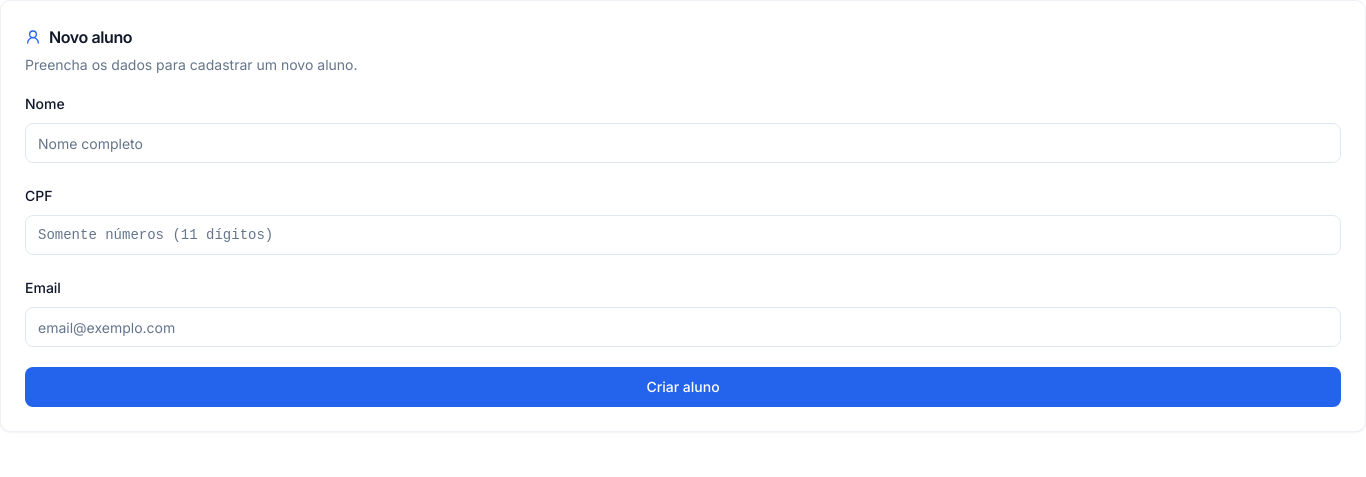
Test: AlunoForm › shows validation error when CPF has fewer than 11 digits
Type "João" into the field labelled "Nome" at (683, 143), box [25, 123, 1341, 163]
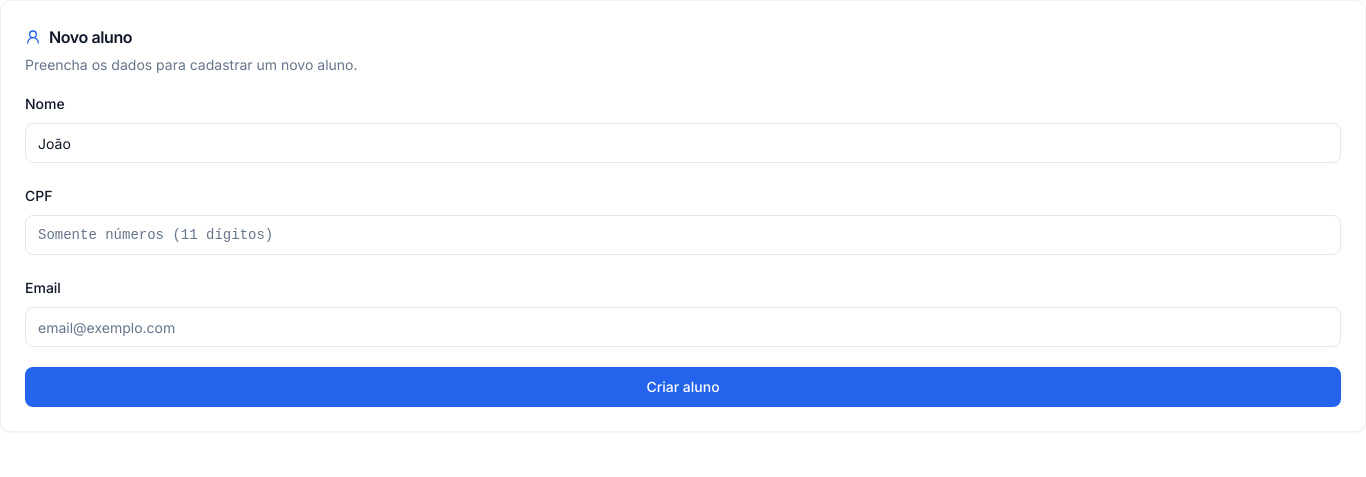
Type "1234" into the field labelled "CPF" at (683, 235), box [25, 215, 1341, 255]
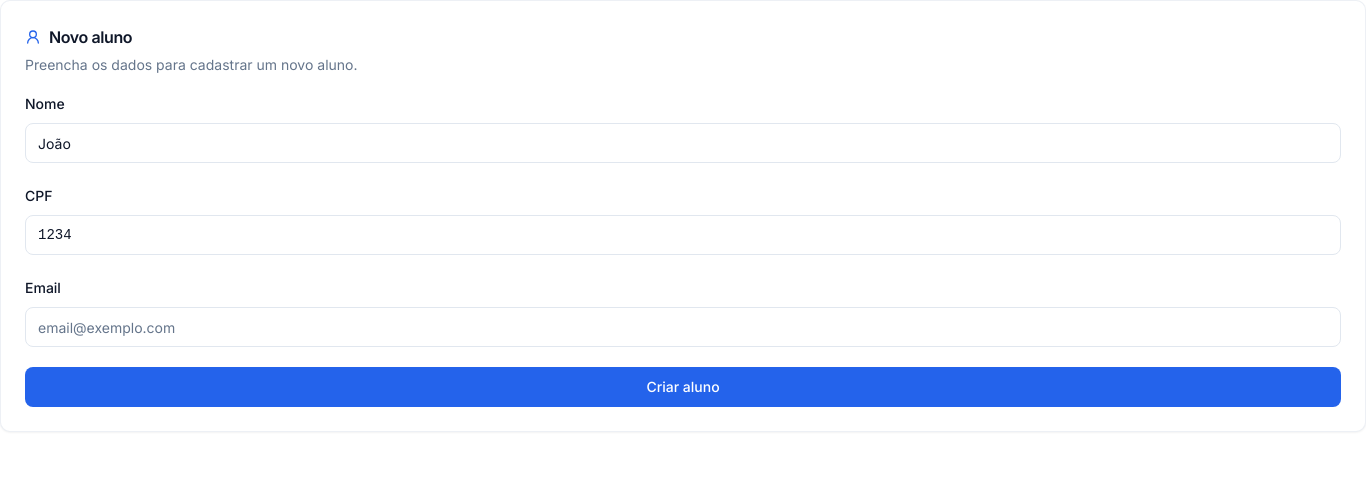
Type "joao@test.com" into the field labelled "Email" at (683, 327), box [25, 307, 1341, 347]
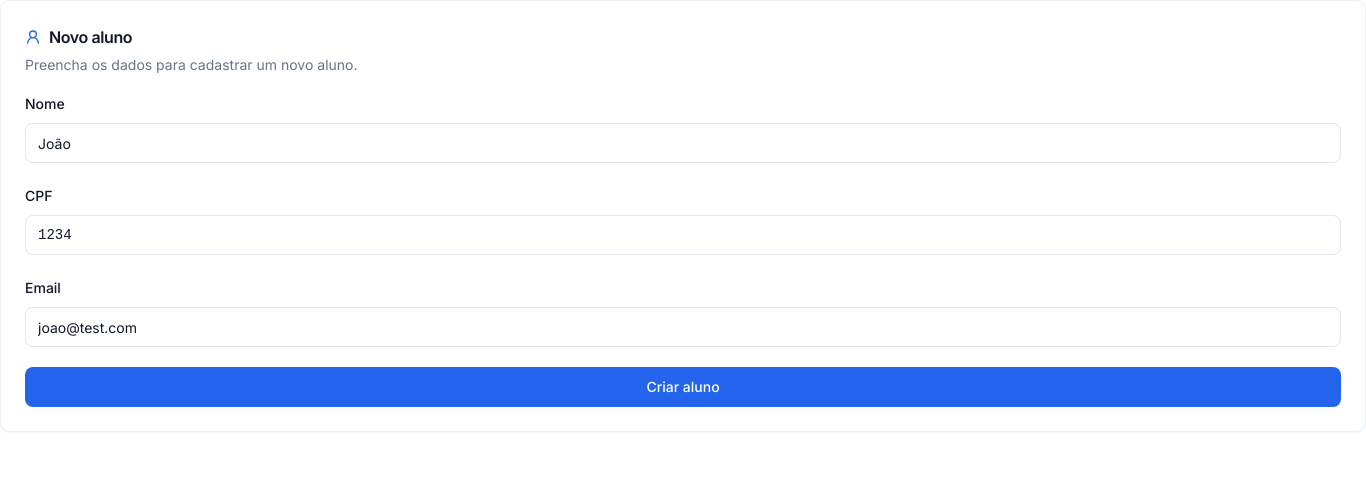
Click the button "Criar aluno" at (683, 387), box [25, 367, 1341, 407]
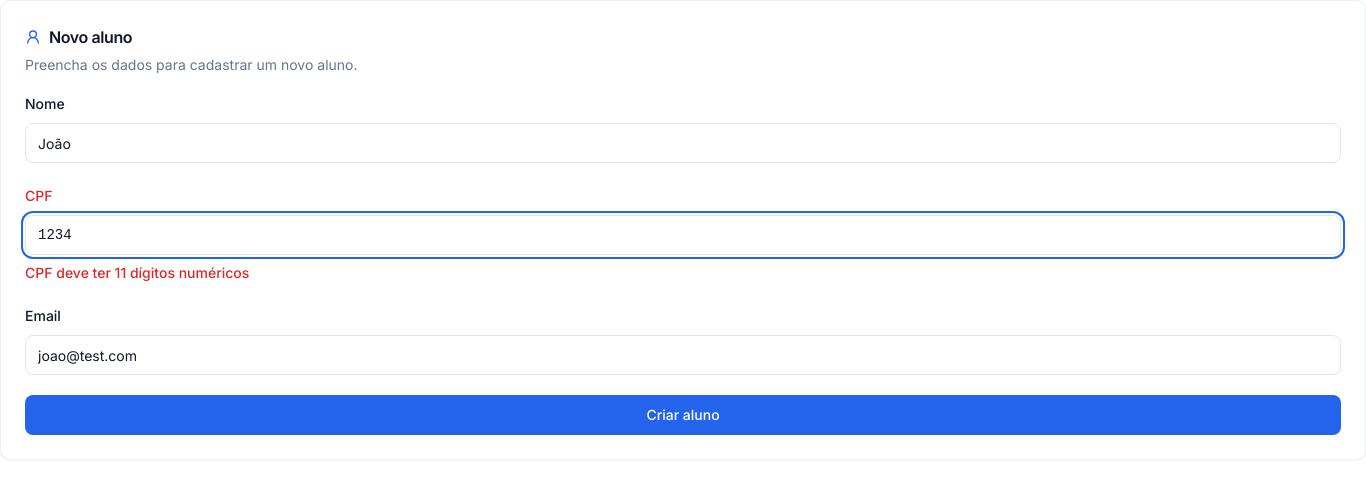
Check: the text "CPF deve ter 11 dígitos numéricos" is shown, box [25, 264, 249, 281]
